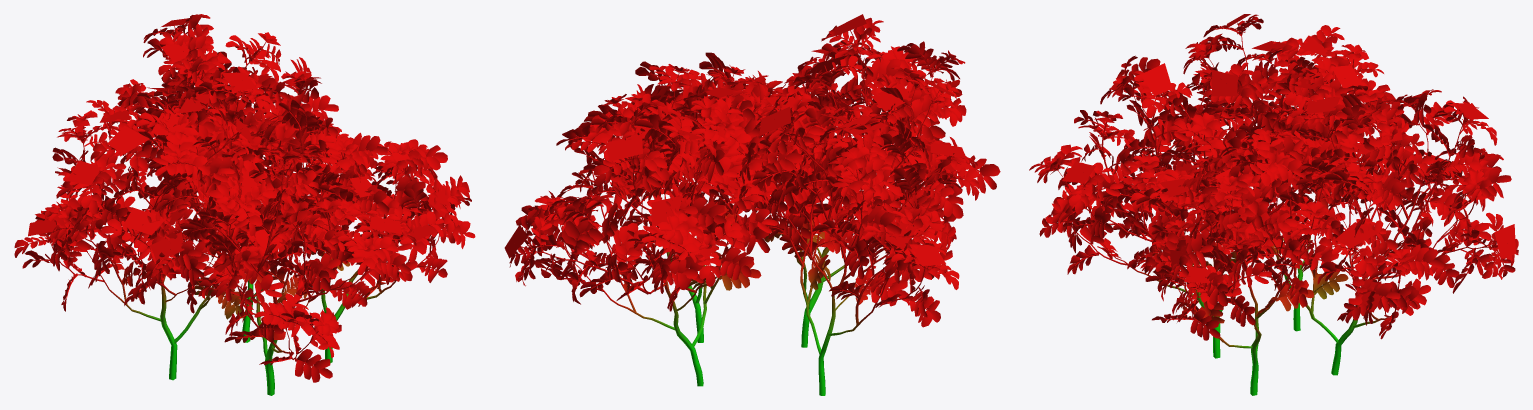
Rendered from Rose Hip_LOD2_Var6.fbx.
3 renders of one model, left to right at view 1: azimuth 30°, elevation 25°; view 2: azimuth 150°, elevation 25°; view 3: azimuth 270°, elevation 25°, orthographic. The views are drawn at different scales.
Visible parts, largest first — view 1: _ts17_Var6_LOD2; view 2: _ts17_Var6_LOD2; view 3: _ts17_Var6_LOD2.
Part boxes in pixels (box(x1,y1,x2,y2)): _ts17_Var6_LOD2: box(14, 14, 475, 395); _ts17_Var6_LOD2: box(504, 14, 1000, 395); _ts17_Var6_LOD2: box(1029, 14, 1518, 395).
Size of the model in its own units: 194 by 134 by 209.
